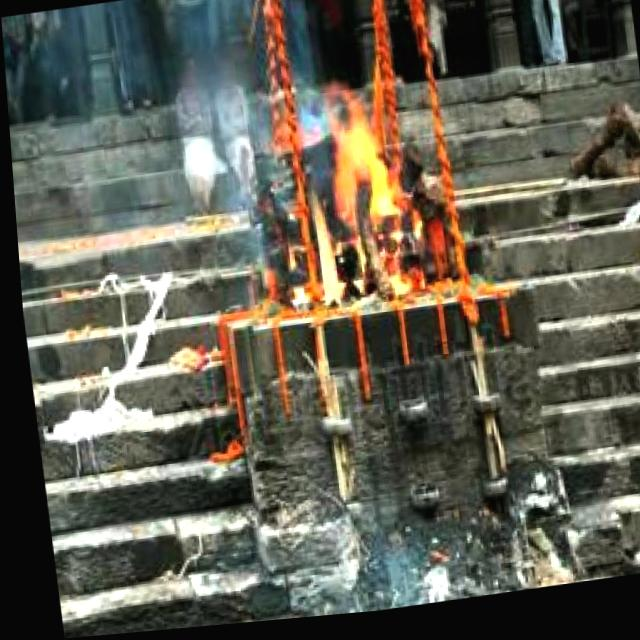Fire: (288, 88, 411, 320)
